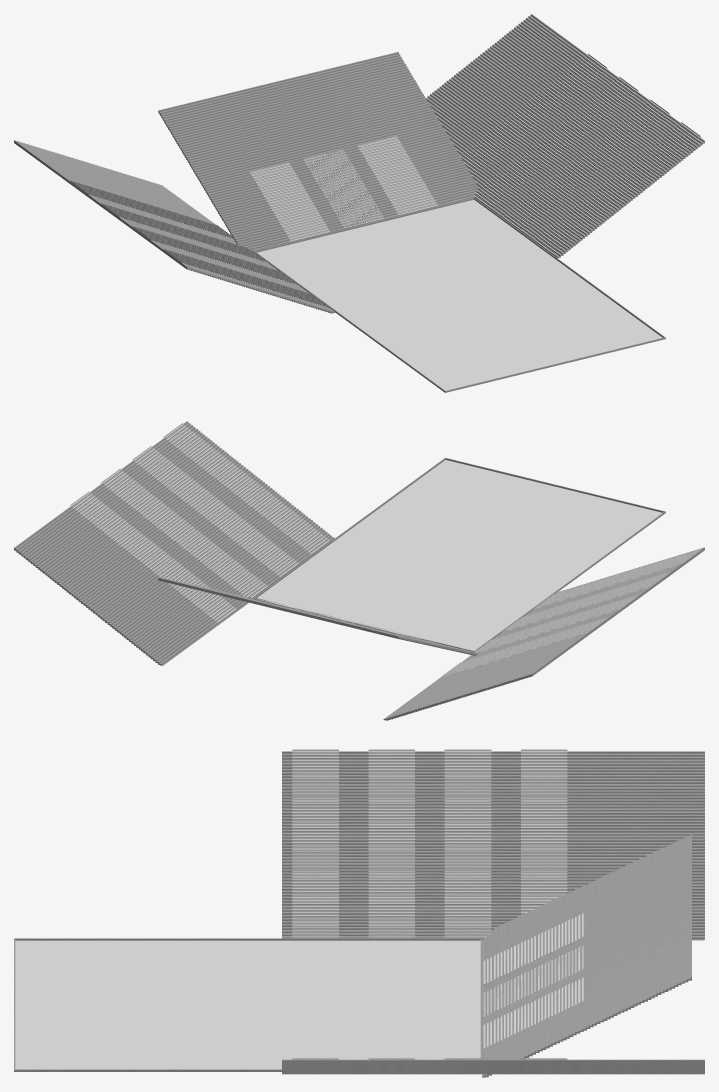
File: スタジアム縦簡略版.fbx
3 renders of one model, top to bottom at view 1: azimuth 30°, elevation 25°; view 2: azimuth 150°, elevation 25°; view 3: azimuth 270°, elevation 25°, orthographic. The views are drawn at different scales.
Parts seen in each view (by area): view 1: 柵.001, コート（内）, 立方体.016, 立方体.013, 立方体.028, コート（外）, 立方体.040, 柵.002; view 2: 柵.001, コート（内）, 立方体.016, 立方体.028, コート（外）, 柵.002; view 3: 柵.001, コート（内）, 立方体.028, コート（外）, 立方体.013, 立方体.040, 立方体.016.
Part boxes in pixels (<box>): 柵.001: <box>14,14,704,392</box>; コート（内）: <box>267,204,651,386</box>; 立方体.016: <box>460,54,700,253</box>; 立方体.013: <box>250,136,437,241</box>; 立方体.028: <box>70,180,329,308</box>; コート（外）: <box>257,199,662,390</box>; 立方体.040: <box>303,149,383,228</box>; 柵.002: <box>446,337,664,392</box>; 柵.001: <box>14,421,704,720</box>; コート（内）: <box>267,464,651,647</box>; 立方体.016: <box>70,423,329,622</box>; 立方体.028: <box>441,549,700,677</box>; コート（外）: <box>257,460,662,650</box>; 柵.002: <box>445,458,664,512</box>; 柵.001: <box>14,751,704,1077</box>; コート（内）: <box>26,945,470,1066</box>; 立方体.028: <box>292,749,567,937</box>; コート（外）: <box>15,940,480,1069</box>; 立方体.013: <box>483,912,583,1048</box>; 立方体.040: <box>483,944,583,1016</box>; 立方体.016: <box>292,1058,567,1060</box>.
Size of the model in its own units: 173 by 26.64 by 163.
